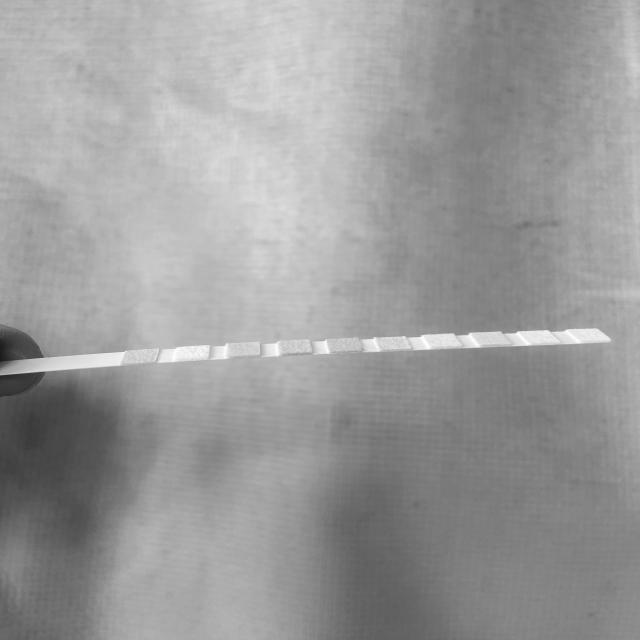Bilirubin: (178, 348, 208, 358)
Blood: (330, 340, 359, 349)
Glucose: (127, 351, 155, 362)
Ketone: (228, 344, 259, 355)
Leukocytes: (529, 331, 551, 342), (582, 330, 598, 340)
Protein: (432, 335, 454, 345)
SpGravity: (278, 342, 311, 352)
Urobilinogen: (480, 333, 502, 343)
background: (0, 0, 640, 640)
pH: (383, 337, 405, 350)
strip: (0, 328, 611, 375)
